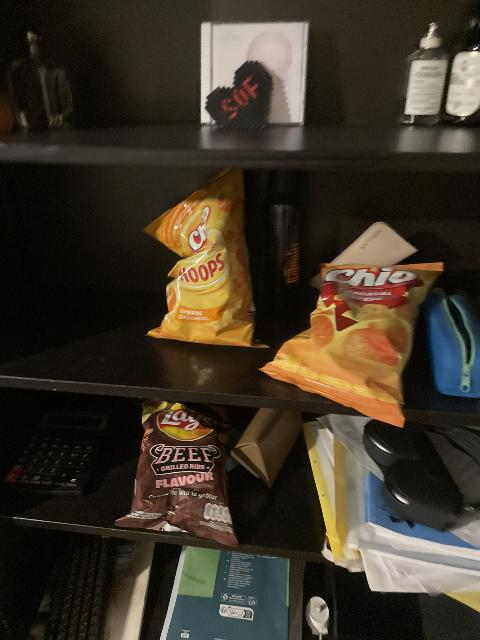Chio Cascaval 125g: (258, 258, 446, 424)
Chio Hula Hoops Cheese 70g: (141, 168, 266, 343)
Lays Beef Grilled Ribs 125g: (115, 401, 239, 546)
